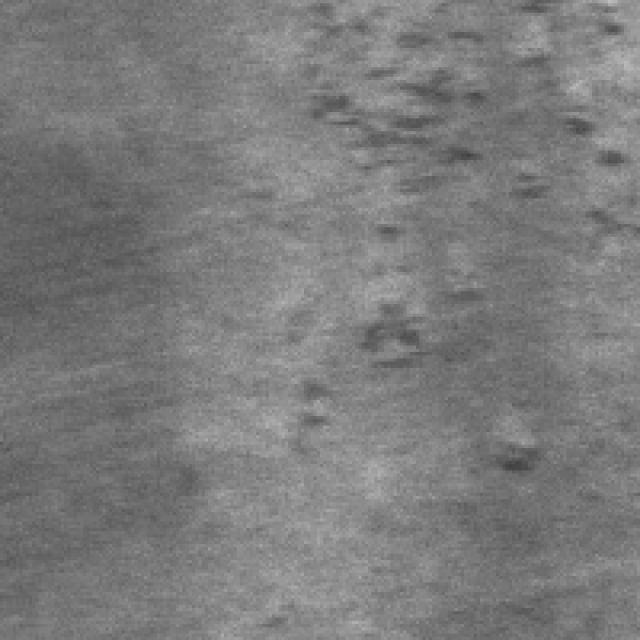rolled-in_scale: (272, 0, 630, 202), (285, 291, 531, 467)
